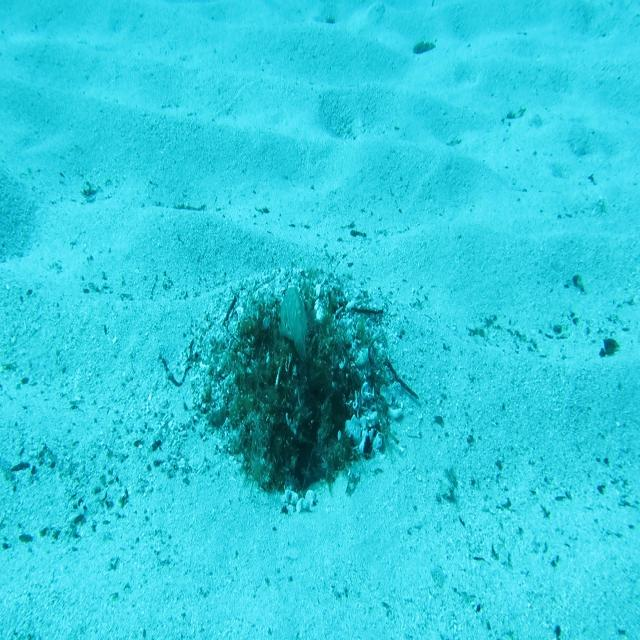NIP_CORE: (277, 284, 308, 364)
core_nest: (266, 323, 320, 360)
nest: (170, 240, 408, 523)
vegetation: (410, 38, 437, 56)
